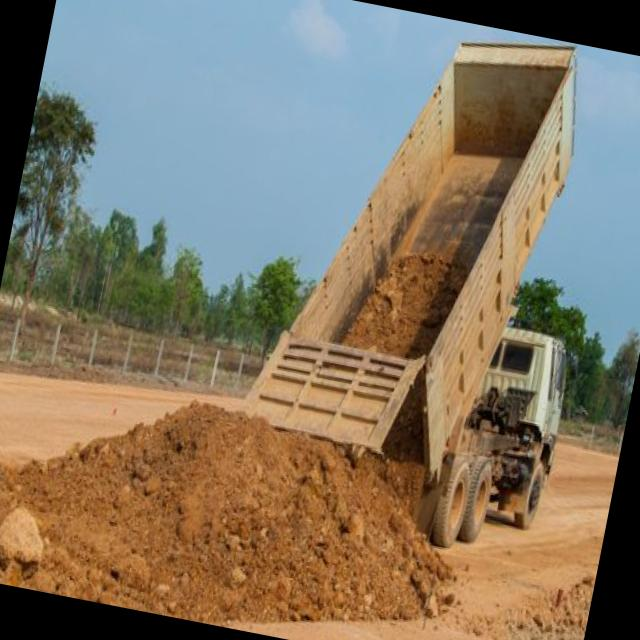red-sand: (0, 404, 451, 624)
white-sand: (227, 444, 619, 640), (0, 372, 240, 462)
